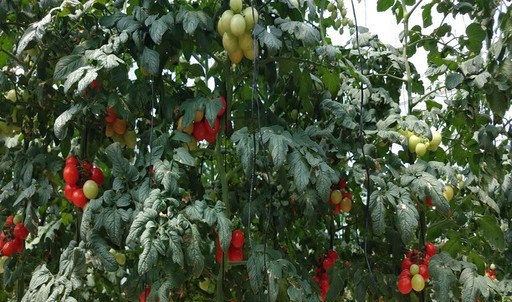dry leaves: (179, 94, 229, 144)
green tomato bunch: (217, 1, 261, 64), (397, 118, 442, 156)
mixed tomato bunch: (99, 103, 137, 152), (327, 179, 353, 212)
red tomato bunch: (63, 156, 105, 211), (399, 241, 434, 295), (313, 248, 337, 299), (1, 216, 28, 257), (215, 231, 245, 265)
